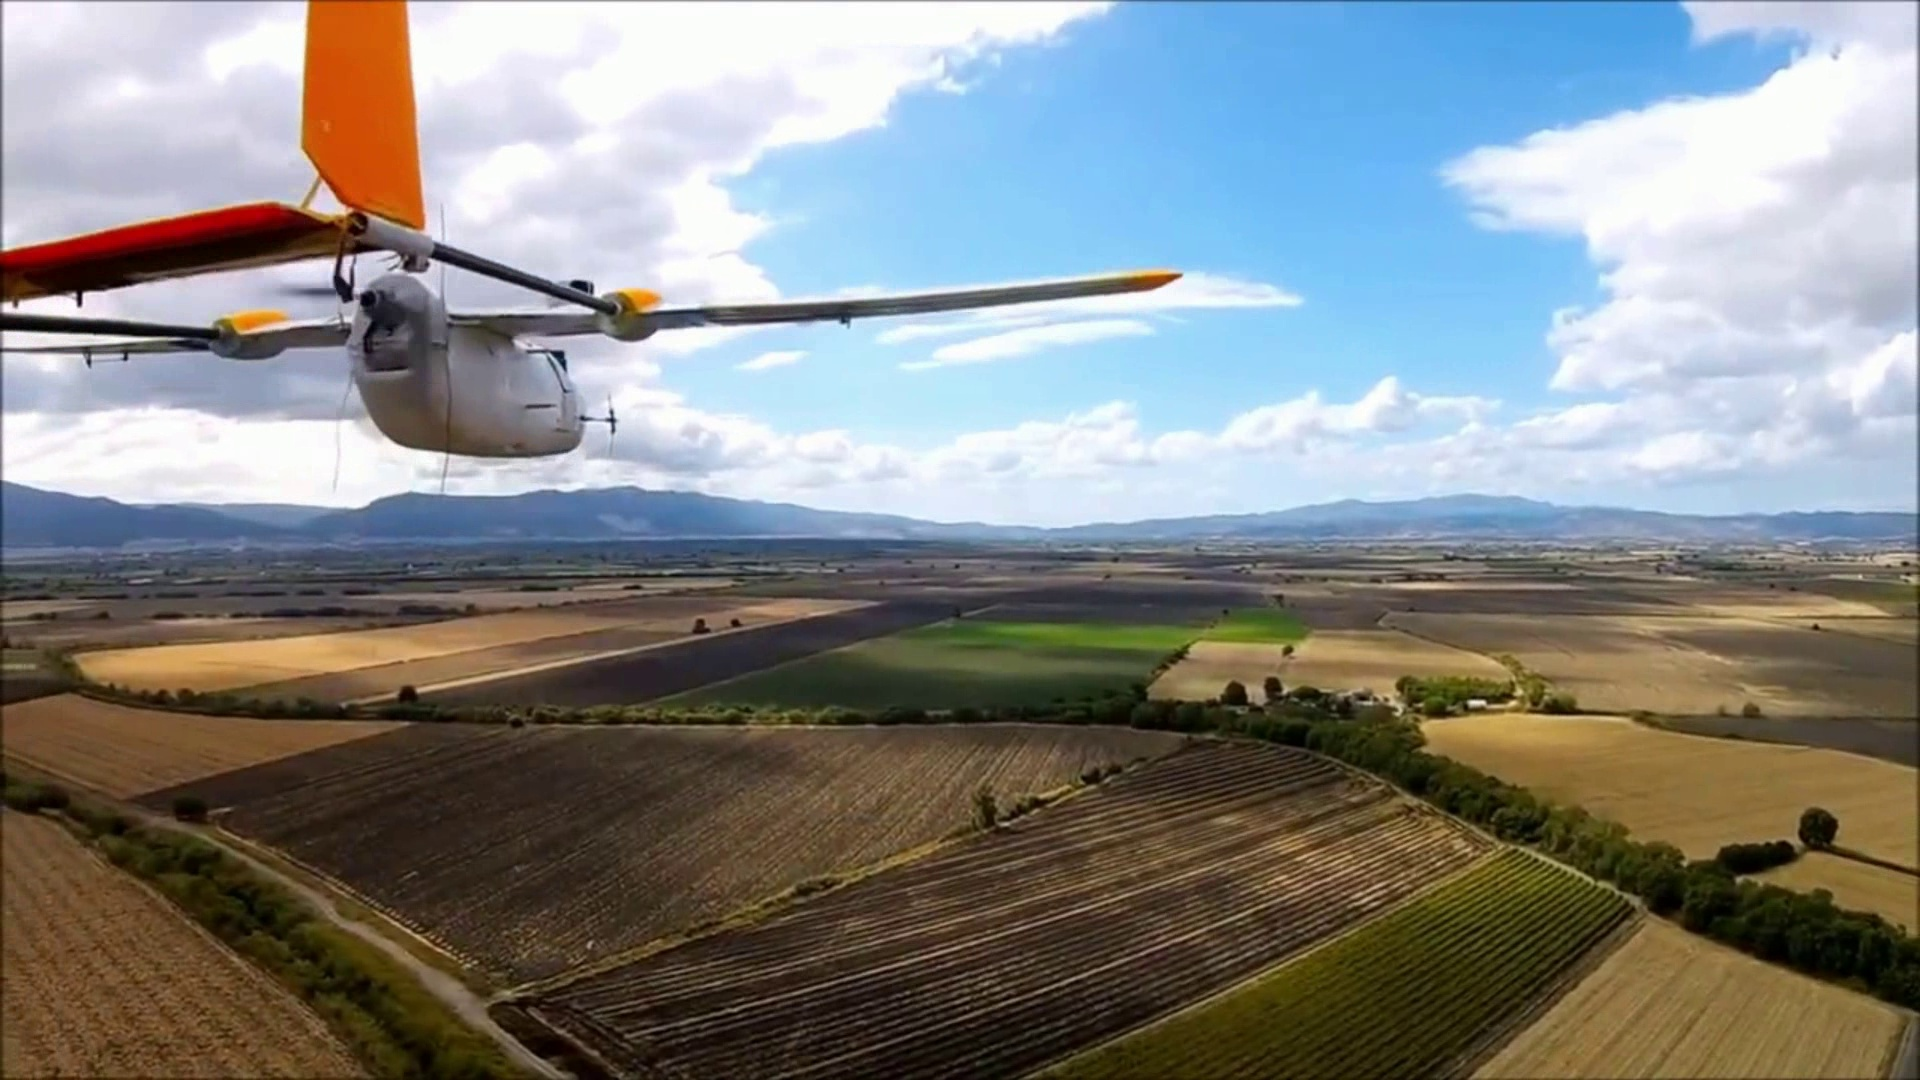airplane: (7, 5, 1211, 469)
